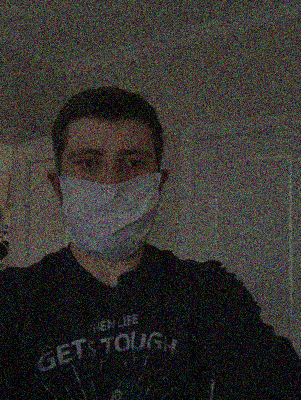with_mask: (60, 136, 164, 260)
